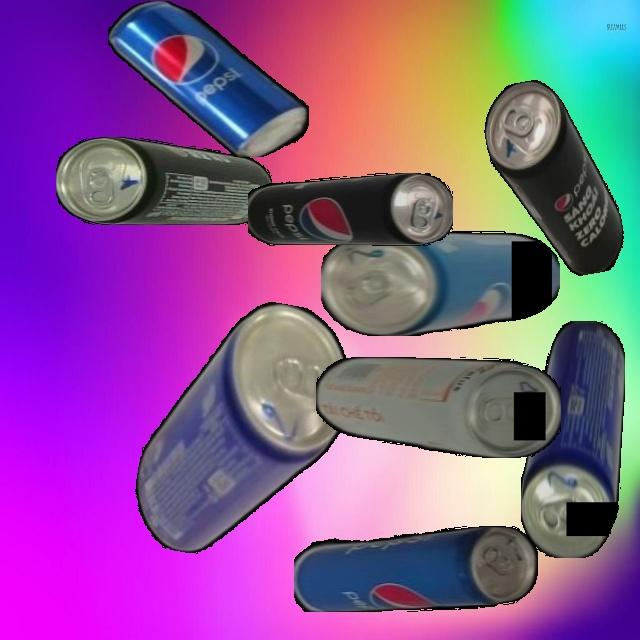debris: (126, 285, 363, 575), (478, 70, 629, 287), (108, 0, 309, 157), (321, 230, 560, 336), (520, 320, 625, 558), (315, 357, 561, 458), (293, 526, 538, 612), (56, 136, 272, 225), (247, 173, 453, 246)
